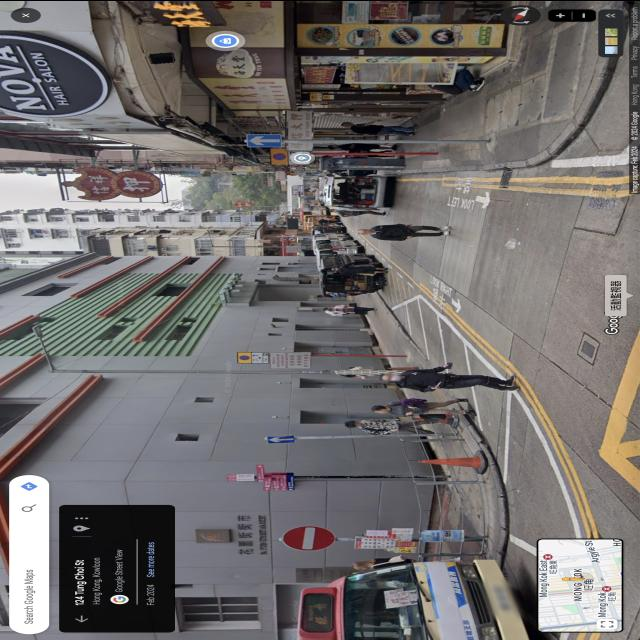Direction-Sign: (248, 134, 282, 146), (268, 435, 294, 442)
Order-Sign: (284, 526, 334, 550), (270, 352, 310, 368), (237, 351, 270, 363)
